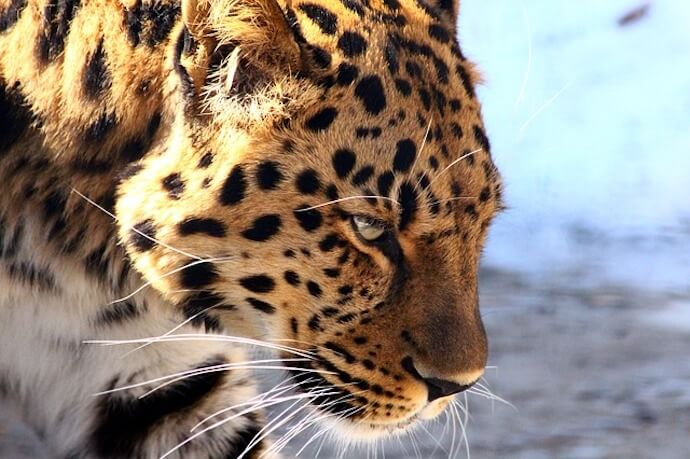amur_leopard: (42, 8, 609, 442)
